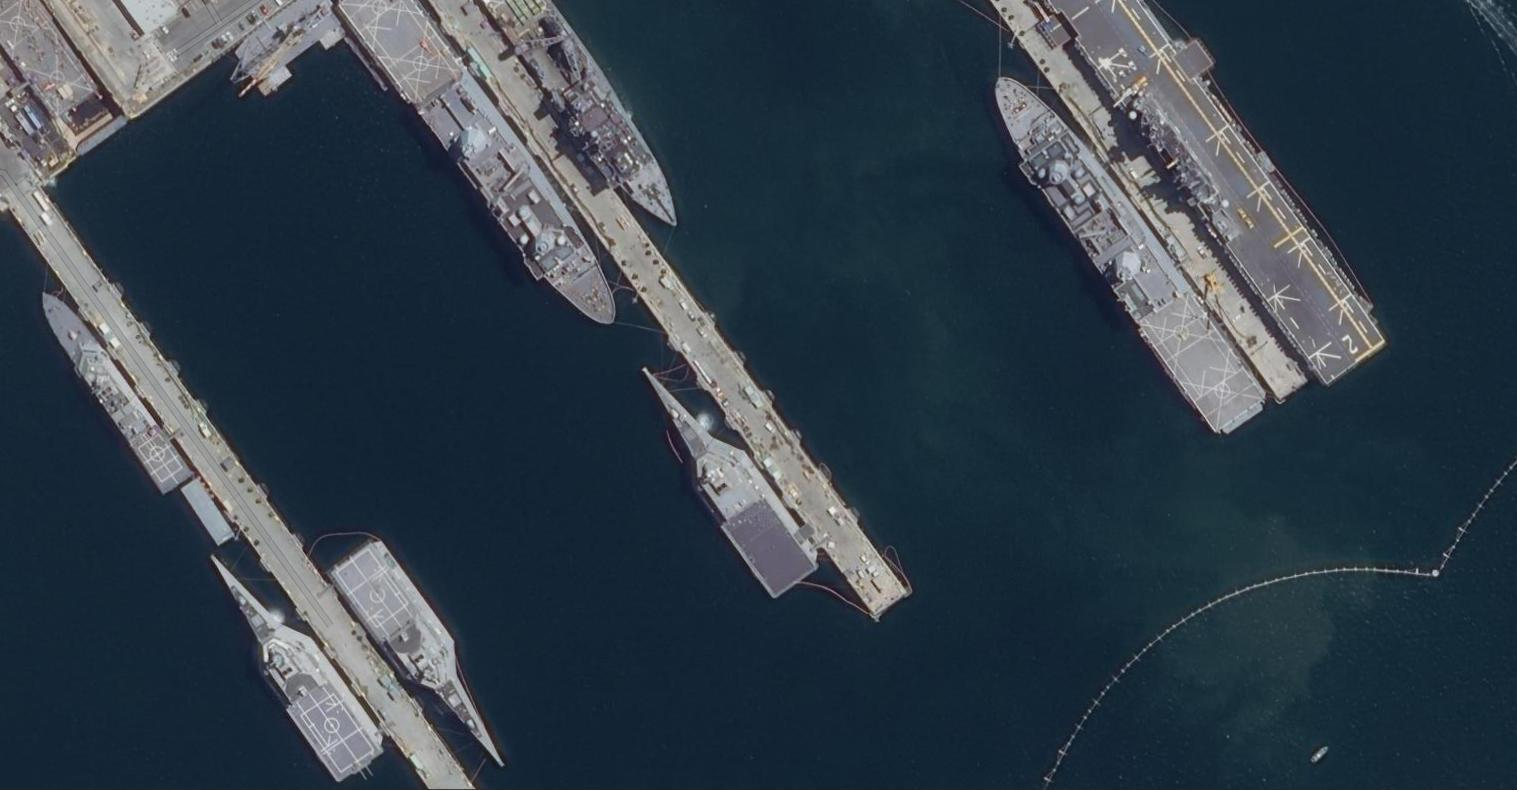amphiby: (989, 68, 1275, 445)
littoral combat ship: (636, 355, 826, 606), (200, 543, 392, 788), (322, 535, 513, 774)
patrol: (33, 288, 198, 502)
